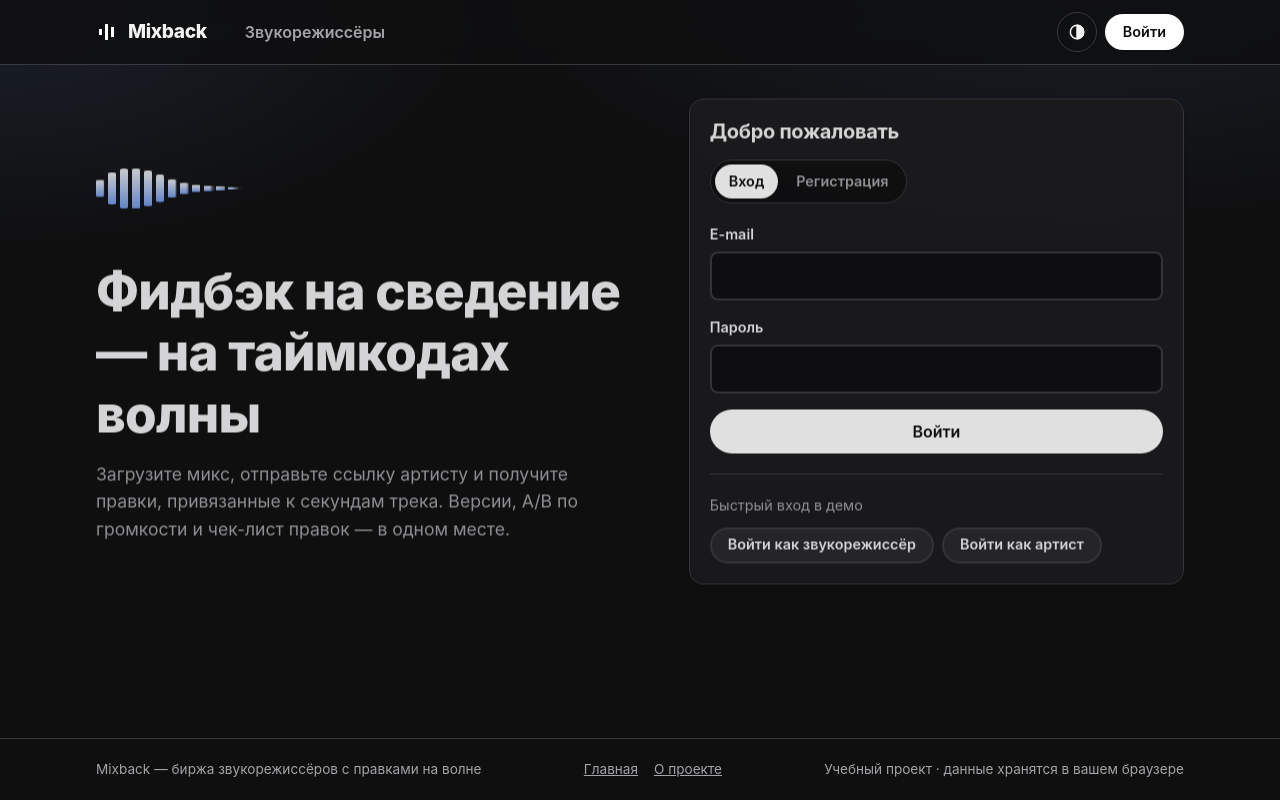
Scenario: авторизация и защита маршрутов › форма входа › ошибка поля исчезает, как только пользователь начинает править его
The image size is (1280, 800).
Click the button "Войти" at (936, 432), box [710,410,1163,454]
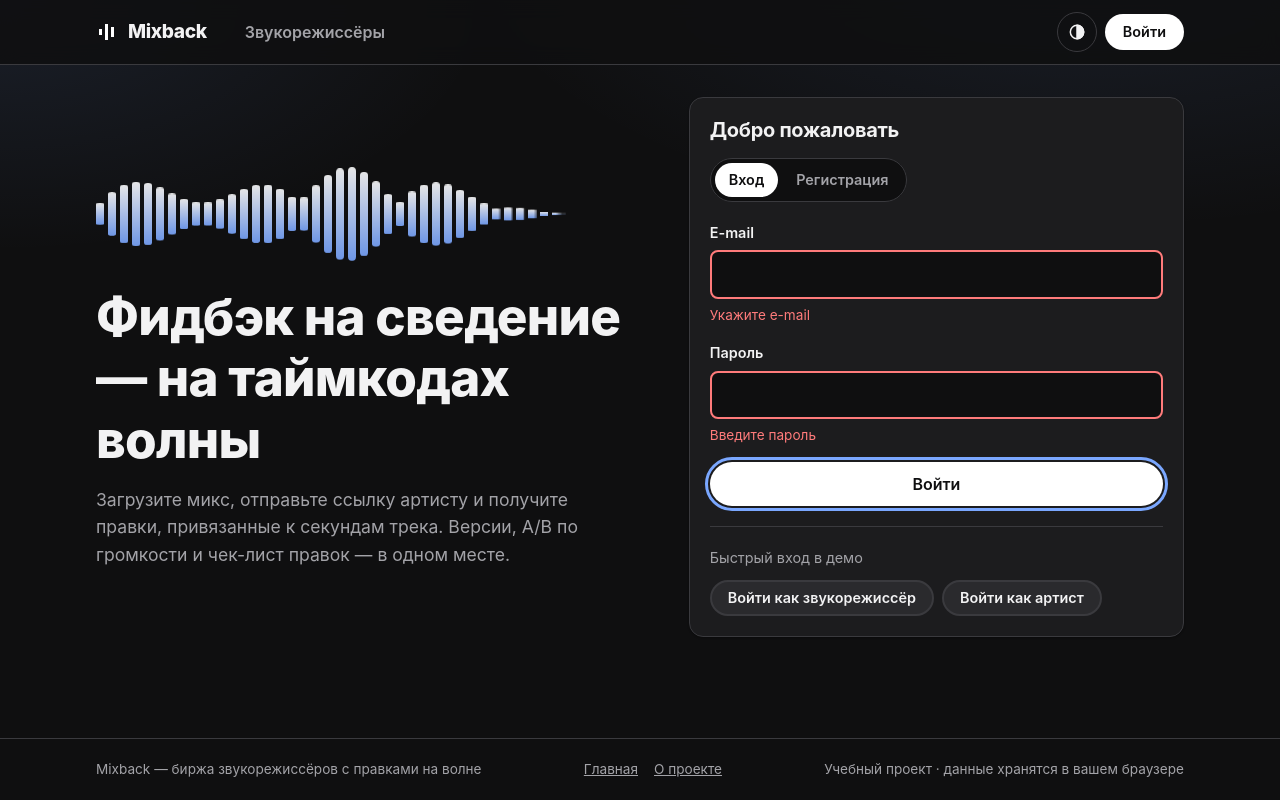
Expected: the text "Укажите e-mail" is shown, [710,307,810,323]
Type "a" into the field labelled "E-mail" at (936, 275), box [710,250,1163,299]
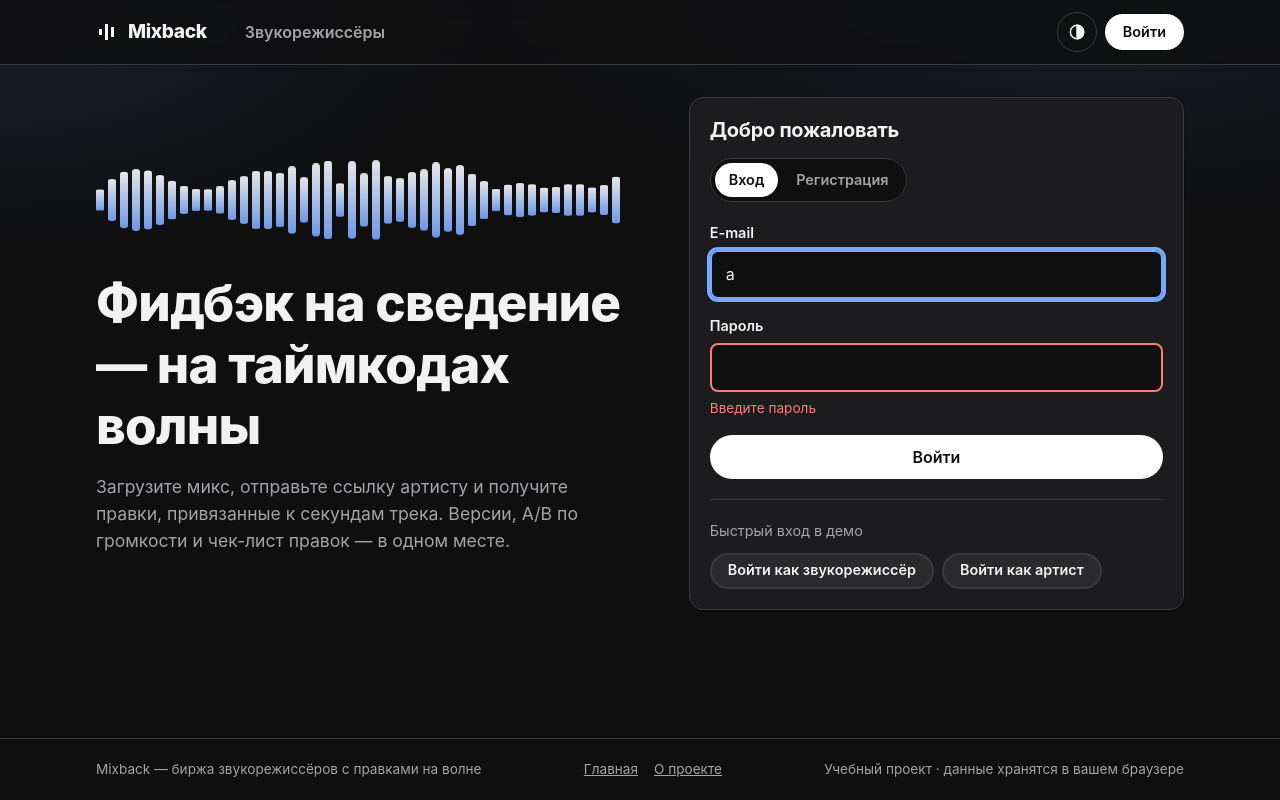
Expected: the text "Укажите e-mail" is gone
